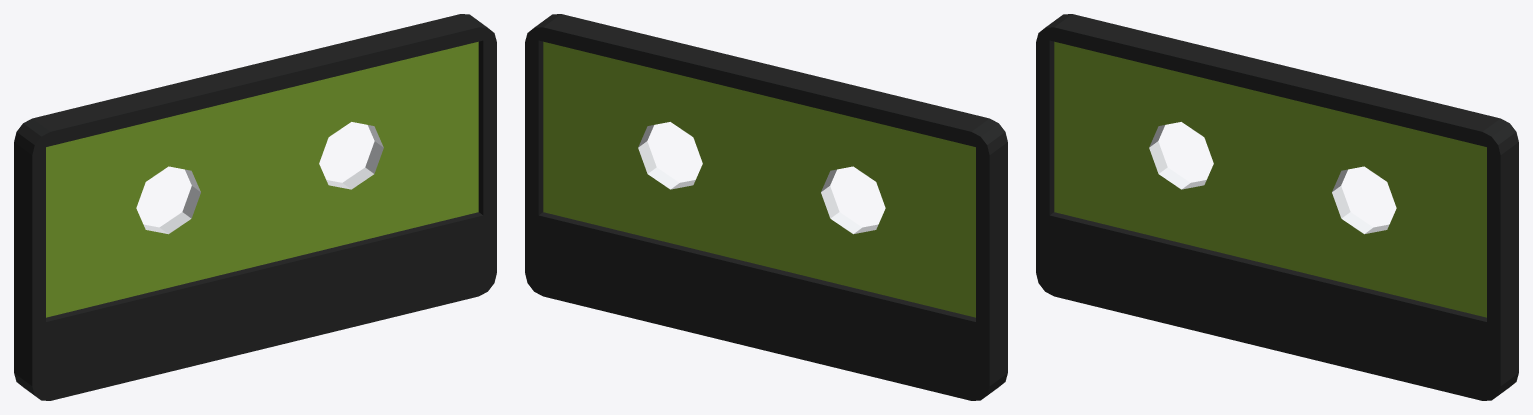
File: Casette_01.fbx
The picture shows the model from 3 angles, left to right: view 1: azimuth 30°, elevation 25°; view 2: azimuth 150°, elevation 25°; view 3: azimuth 330°, elevation 25°; orthographic projection.
Visible parts, largest first — view 1: Plane.066; view 2: Plane.066; view 3: Plane.066.
Part boxes in pixels (x1,y1,x2,y2): Plane.066: (14, 14, 496, 400); Plane.066: (525, 14, 1007, 400); Plane.066: (1036, 14, 1518, 400).
Size of the model in its own units: 0.2966 by 0.0202 by 0.1642.
